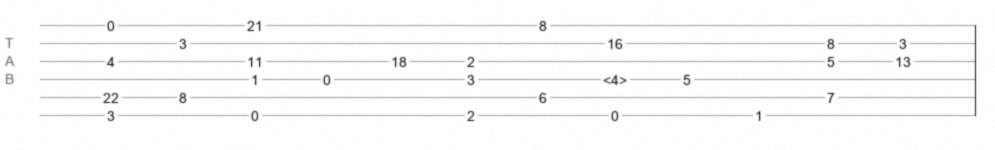0: (107, 18, 115, 28), (251, 108, 259, 118), (323, 72, 331, 82), (611, 108, 619, 118)
1: (251, 72, 259, 82), (755, 108, 763, 118)
11: (247, 54, 263, 64)
13: (895, 54, 911, 64)
16: (607, 36, 623, 46)
18: (391, 54, 407, 64)
2: (467, 108, 475, 118), (467, 54, 475, 64)
21: (247, 18, 263, 28)
22: (103, 90, 119, 100)
3: (107, 108, 115, 118), (179, 36, 187, 46), (467, 72, 475, 82), (899, 36, 907, 46)
4: (107, 54, 115, 64)
5: (683, 72, 691, 82), (827, 54, 835, 64)
6: (539, 90, 547, 100)
7: (827, 90, 835, 100)
8: (179, 90, 187, 100), (539, 18, 547, 28), (827, 36, 835, 46)
harmonic: (603, 72, 627, 82)
